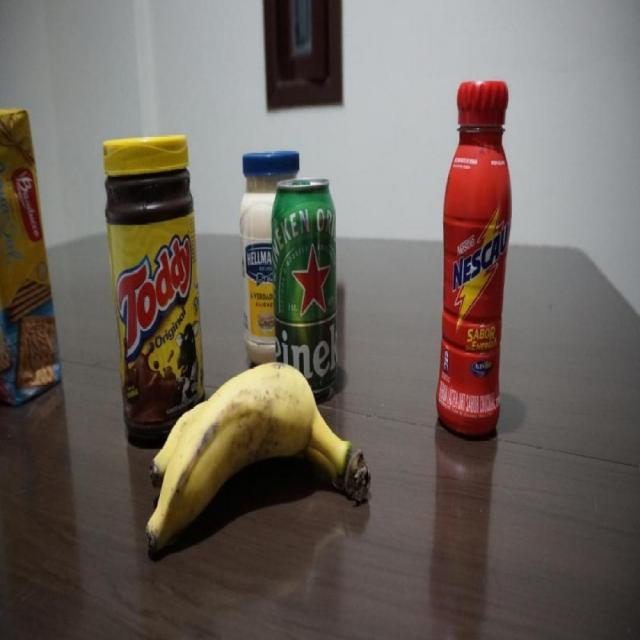Banana: (146, 364, 373, 556)
BeerCan: (270, 176, 338, 401)
ChocolateMilk: (434, 80, 512, 439)
ChocolatePowder: (101, 132, 208, 446)
Cracker: (1, 106, 64, 404)
Mayonnaise: (238, 145, 301, 379)
